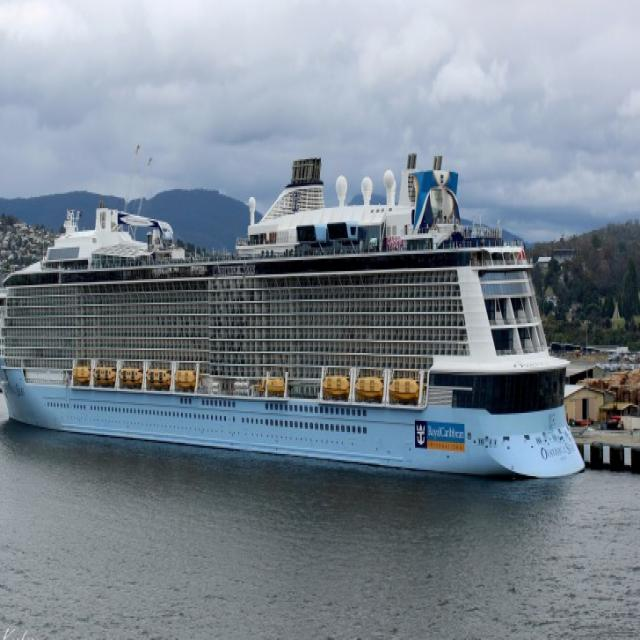cruises: (1, 151, 590, 494)
